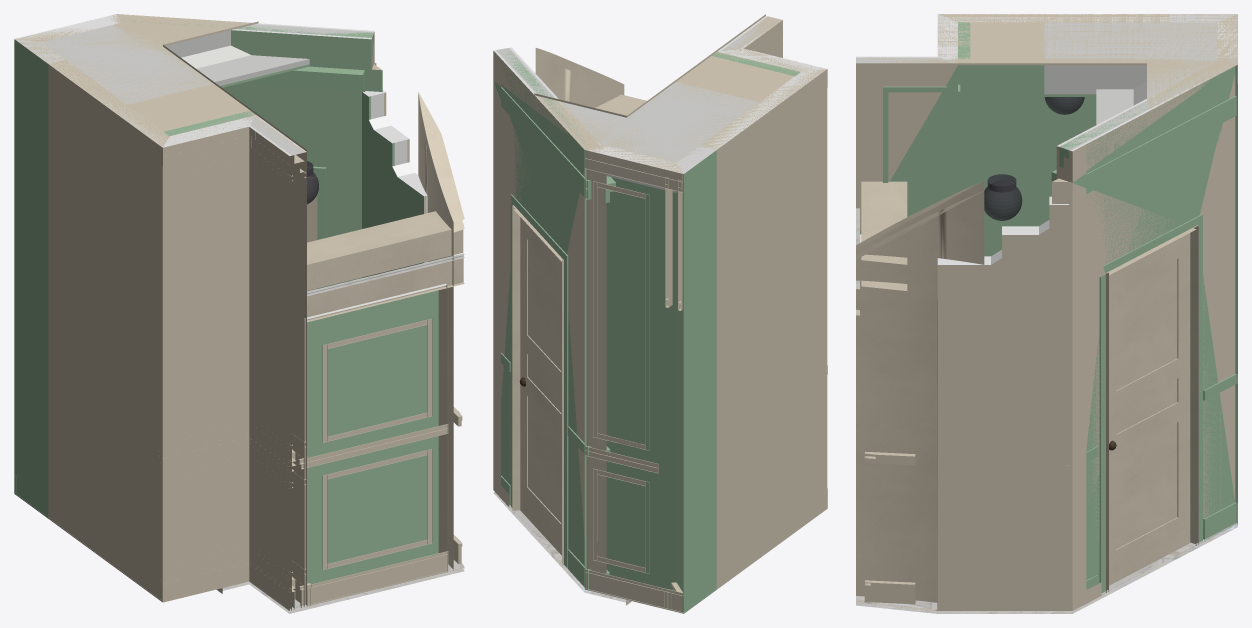
The model's file is powder-room-23630aa83fff.glb.
The picture shows the model from 3 angles, left to right: view 1: azimuth 30°, elevation 25°; view 2: azimuth 150°, elevation 25°; view 3: azimuth 270°, elevation 25°; orthographic projection. The views are drawn at different scales.
Parts seen in each view (by area): view 1: powder-room-d33eebe572d154f2, powder-room-1a8091885ac212af, powder-room-ab5cb5e7d303dd66, powder-room-85f0fd939e0fcc78, powder-room-9b21989b25895c4a, powder-room-a5eabba2ad6474eb, powder-room-2575515a05775d9e, powder-room-5b07a8f5f7929ff6, powder-room-ca6eafacc0f493ac, powder-room-3d7935a3f1355396, powder-room-261aa5c5ae0f77af, powder-room-b74e3495b7e70350 (+11 smaller); view 2: powder-room-d33eebe572d154f2, powder-room-a5eabba2ad6474eb, powder-room-b2b5f93b4255576d, powder-room-9b21989b25895c4a, powder-room-539cd4ce99668665, powder-room-2575515a05775d9e, powder-room-5b07a8f5f7929ff6, powder-room-86d6fc7292b21ae1, powder-room-ae2ab6de1156d266, powder-room-48dc2409da547ff7, powder-room-b74e3495b7e70350, powder-room-f5fbb4dd3b92b4c5 (+14 smaller); view 3: powder-room-d65b0a574c2ac13c, powder-room-a5eabba2ad6474eb, powder-room-b74e3495b7e70350, powder-room-539cd4ce99668665, powder-room-d33eebe572d154f2, powder-room-2575515a05775d9e, powder-room-85f0fd939e0fcc78, powder-room-5b07a8f5f7929ff6, powder-room-48dc2409da547ff7, powder-room-86d6fc7292b21ae1, powder-room-48dd1d74e06d76de, powder-room-ca6eafacc0f493ac (+17 smaller).
Boxes of the visible parts, x1=… form: powder-room-d33eebe572d154f2: x1=48, y1=60, x2=167, y2=601; powder-room-1a8091885ac212af: x1=163, y1=116, x2=255, y2=602; powder-room-ab5cb5e7d303dd66: x1=306, y1=283, x2=447, y2=605; powder-room-85f0fd939e0fcc78: x1=243, y1=115, x2=306, y2=610; powder-room-9b21989b25895c4a: x1=14, y1=39, x2=64, y2=518; powder-room-a5eabba2ad6474eb: x1=97, y1=14, x2=382, y2=286; powder-room-2575515a05775d9e: x1=14, y1=14, x2=306, y2=155; powder-room-5b07a8f5f7929ff6: x1=42, y1=24, x2=309, y2=104; powder-room-ca6eafacc0f493ac: x1=307, y1=211, x2=463, y2=290; powder-room-3d7935a3f1355396: x1=362, y1=92, x2=426, y2=277; powder-room-261aa5c5ae0f77af: x1=306, y1=258, x2=464, y2=322; powder-room-b74e3495b7e70350: x1=418, y1=103, x2=464, y2=570; powder-room-d33eebe572d154f2: x1=701, y1=69, x2=827, y2=589; powder-room-a5eabba2ad6474eb: x1=493, y1=47, x2=606, y2=589; powder-room-b2b5f93b4255576d: x1=584, y1=145, x2=683, y2=593; powder-room-9b21989b25895c4a: x1=676, y1=146, x2=716, y2=613; powder-room-539cd4ce99668665: x1=520, y1=217, x2=561, y2=555; powder-room-2575515a05775d9e: x1=534, y1=14, x2=826, y2=173; powder-room-5b07a8f5f7929ff6: x1=562, y1=82, x2=758, y2=162; powder-room-86d6fc7292b21ae1: x1=512, y1=205, x2=563, y2=565; powder-room-ae2ab6de1156d266: x1=593, y1=181, x2=649, y2=450; powder-room-48dc2409da547ff7: x1=510, y1=194, x2=568, y2=567; powder-room-b74e3495b7e70350: x1=535, y1=57, x2=624, y2=107; powder-room-f5fbb4dd3b92b4c5: x1=585, y1=569, x2=682, y2=613; powder-room-d65b0a574c2ac13c: x1=937, y1=204, x2=1068, y2=610; powder-room-a5eabba2ad6474eb: x1=1052, y1=54, x2=1235, y2=610; powder-room-b74e3495b7e70350: x1=856, y1=191, x2=984, y2=610; powder-room-539cd4ce99668665: x1=1109, y1=233, x2=1190, y2=585; powder-room-d33eebe572d154f2: x1=938, y1=14, x2=1169, y2=256; powder-room-2575515a05775d9e: x1=856, y1=14, x2=1237, y2=110; powder-room-85f0fd939e0fcc78: x1=856, y1=56, x2=957, y2=234; powder-room-5b07a8f5f7929ff6: x1=1044, y1=22, x2=1217, y2=124; powder-room-48dc2409da547ff7: x1=1099, y1=214, x2=1202, y2=594; powder-room-86d6fc7292b21ae1: x1=1106, y1=225, x2=1198, y2=592; powder-room-48dd1d74e06d76de: x1=1086, y1=96, x2=1236, y2=193; powder-room-ca6eafacc0f493ac: x1=861, y1=181, x2=907, y2=290.
Bounding box in the file's own units: 1.92 × 3.05 × 2.26.
Materials: 21 (5 with a texture image).
